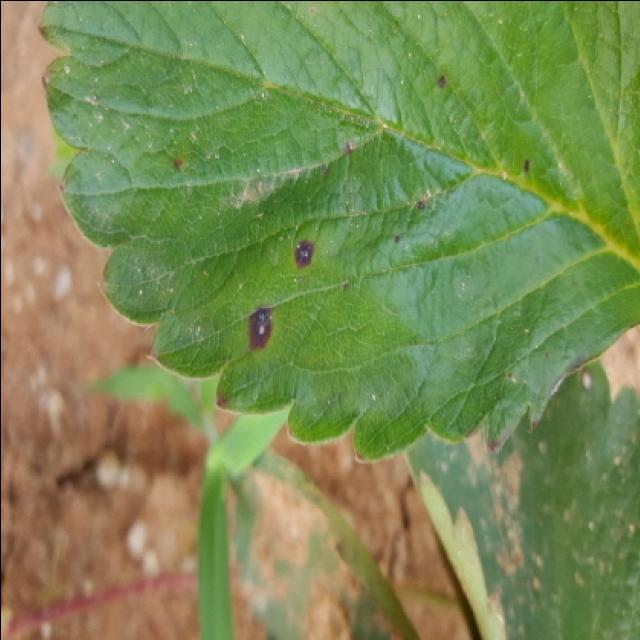Leaf Spot: (35, 2, 640, 465), (402, 358, 640, 640)
